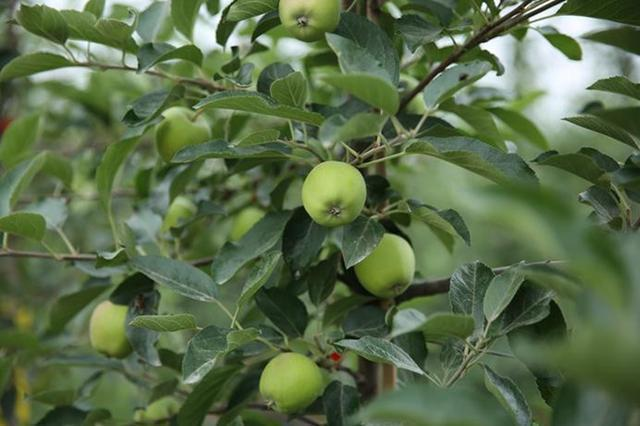apple: (301, 159, 367, 227), (259, 350, 325, 412), (350, 233, 414, 296), (155, 105, 212, 162), (89, 297, 134, 358), (278, 1, 342, 41)
